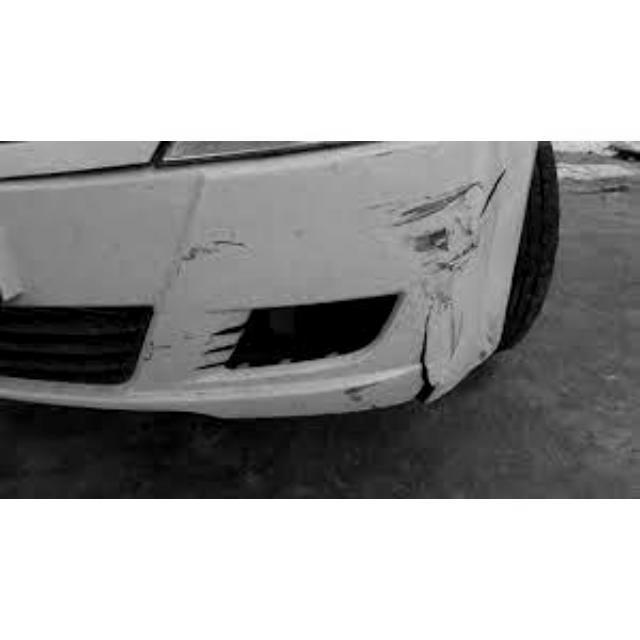front-bumper-dent: (0, 152, 548, 425)
